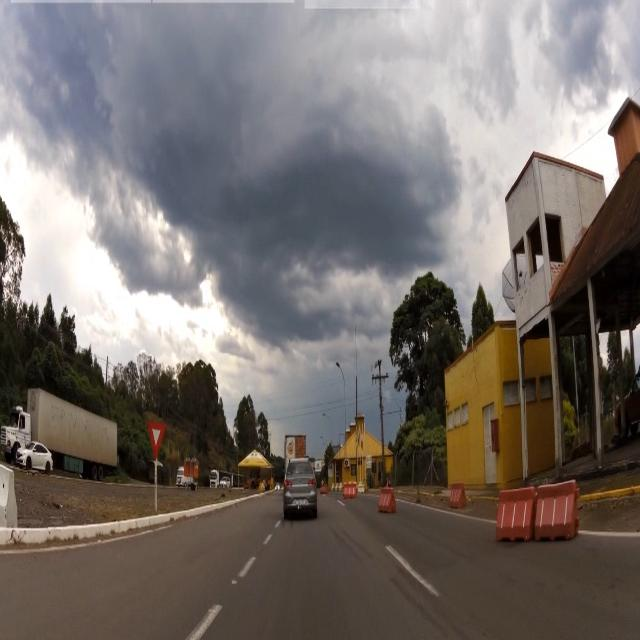R-2: (146, 417, 166, 461)
